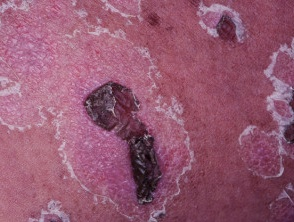SJS-TEN: (0, 0, 190, 217), (225, 29, 294, 221), (197, 0, 246, 48)
